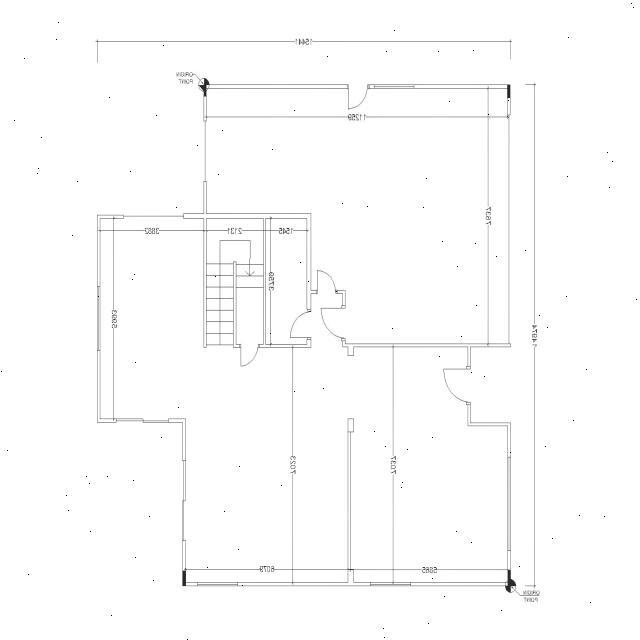Column: (182, 570, 186, 586), (507, 85, 511, 98), (508, 570, 510, 586), (204, 85, 206, 96)
Door: (444, 368, 471, 402), (321, 308, 345, 339), (290, 312, 312, 338), (348, 84, 368, 110), (318, 270, 336, 294), (240, 344, 258, 366)
Sliding Door: (182, 461, 186, 542), (115, 419, 169, 423)
Staircase: (207, 220, 263, 344)
Window: (96, 286, 100, 351), (508, 457, 510, 551), (370, 582, 410, 586), (198, 582, 238, 586), (374, 85, 414, 88)
